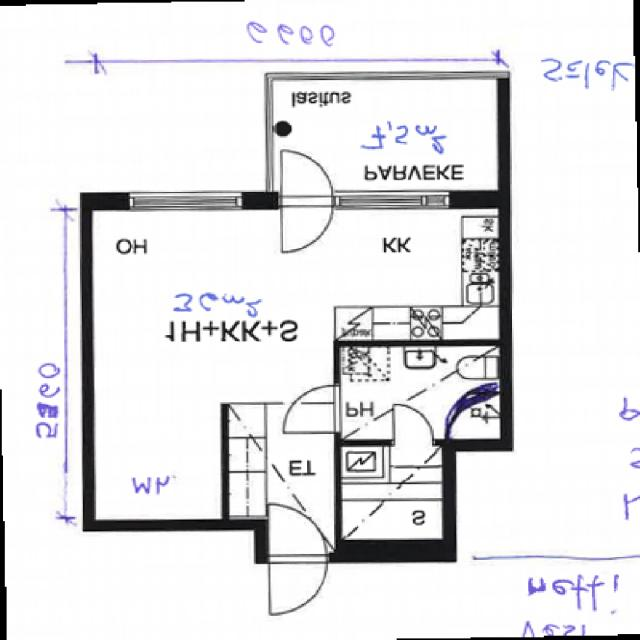door: (272, 504, 327, 564), (272, 554, 327, 614), (282, 145, 333, 209), (282, 191, 333, 254), (284, 387, 343, 433), (394, 404, 433, 447)
